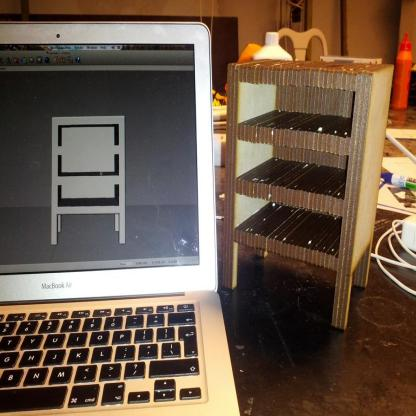board: (2, 21, 249, 416)
